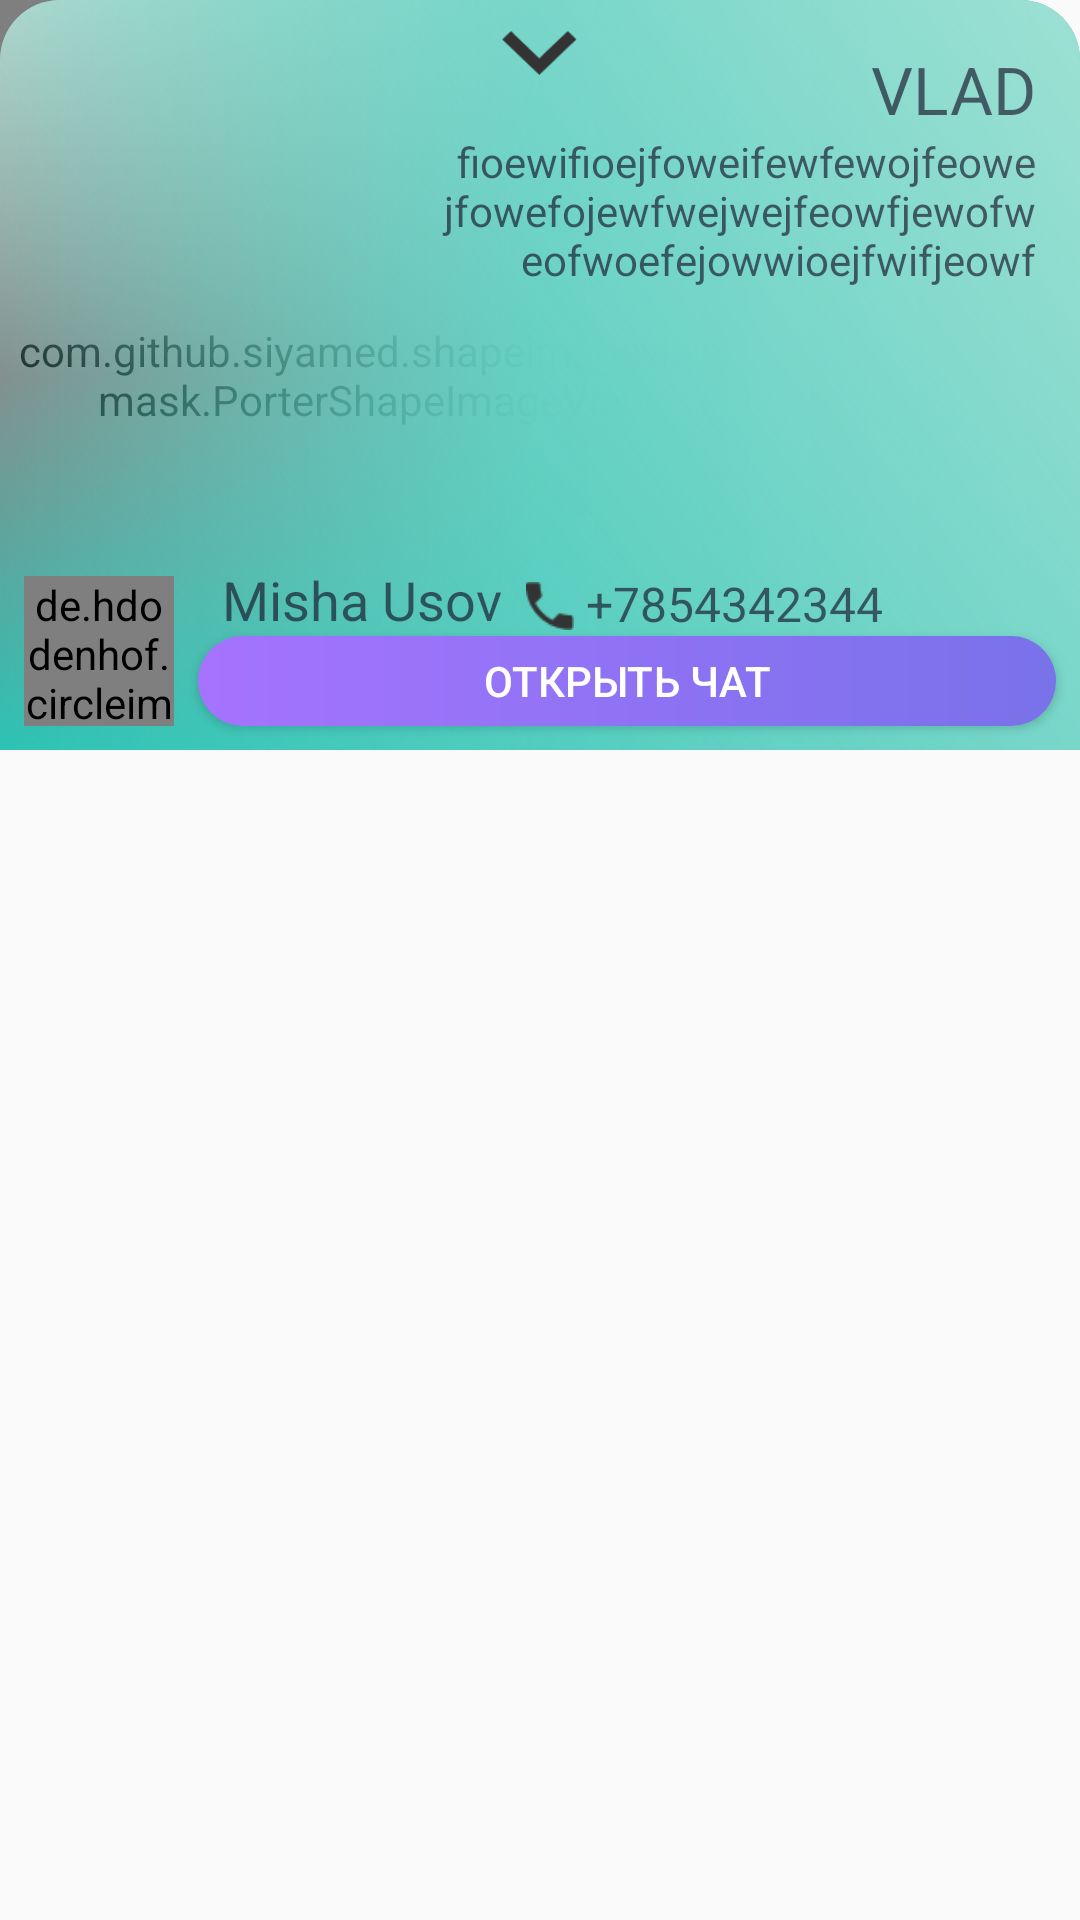

Icons on this 1080 × 1920 Android screen, each with the point to tap as [x,y]:
down arrow: [539,53]
telephone: [550,606]
